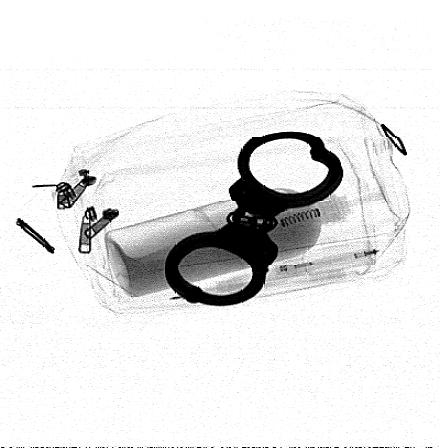HandCuffs: (165, 132, 344, 307)
